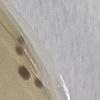black: (18, 65, 30, 81), (32, 78, 43, 89), (15, 46, 24, 57)
